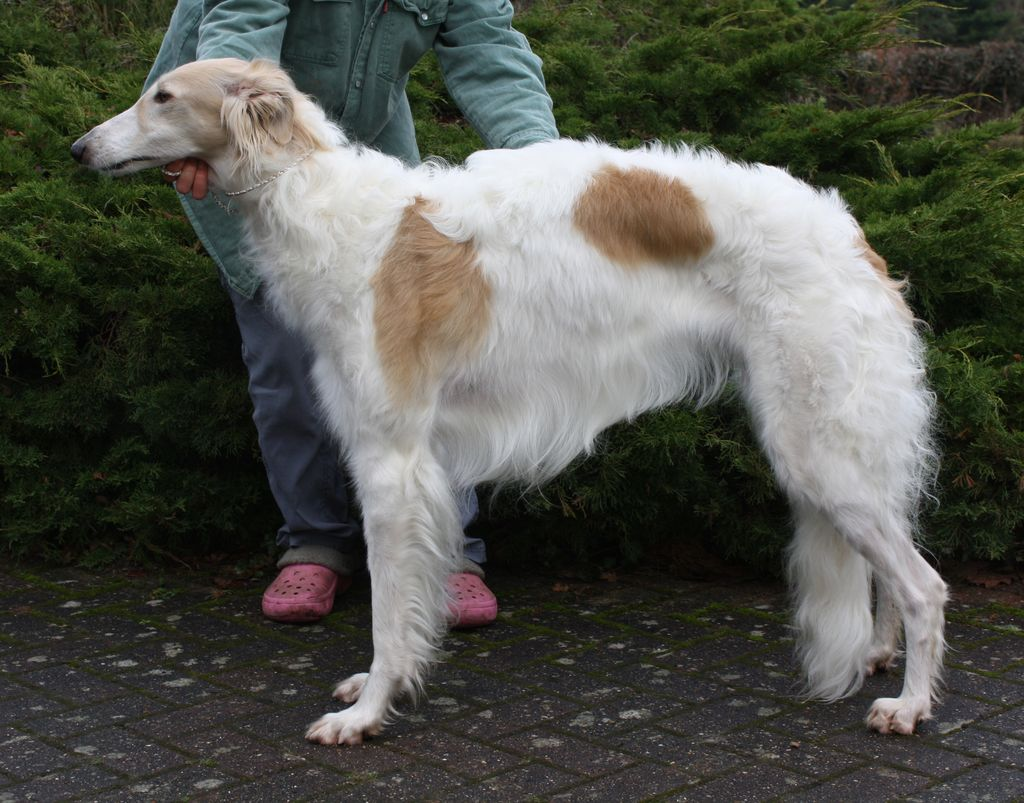borzoi: (67, 57, 974, 741)
